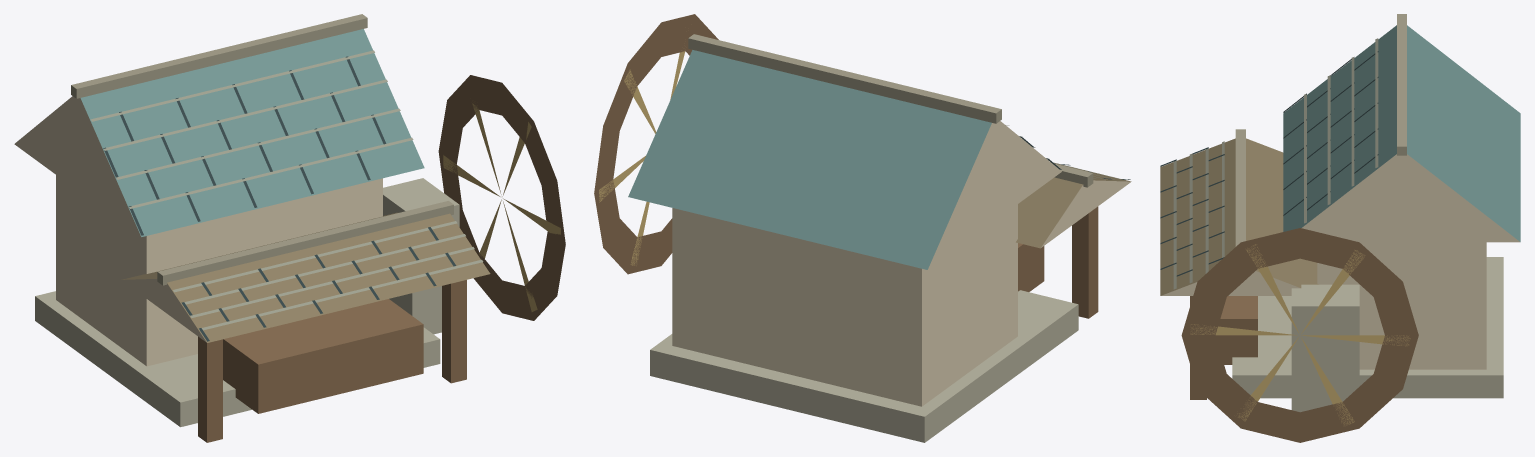
Rendered from workshop.glb.
3 renders of one model, left to right at view 1: azimuth 30°, elevation 25°; view 2: azimuth 150°, elevation 25°; view 3: azimuth 270°, elevation 25°, orthographic. The views are drawn at different scales.
Visible parts, largest first — view 1: Building; view 2: Building; view 3: Building.
Part boxes in pixels (bbox=[...]): Building: bbox=[14, 14, 565, 442]; Building: bbox=[594, 14, 1131, 442]; Building: bbox=[1160, 14, 1520, 442].
Bounding box in the file's own units: 47.5 × 33.7 × 42.5.
